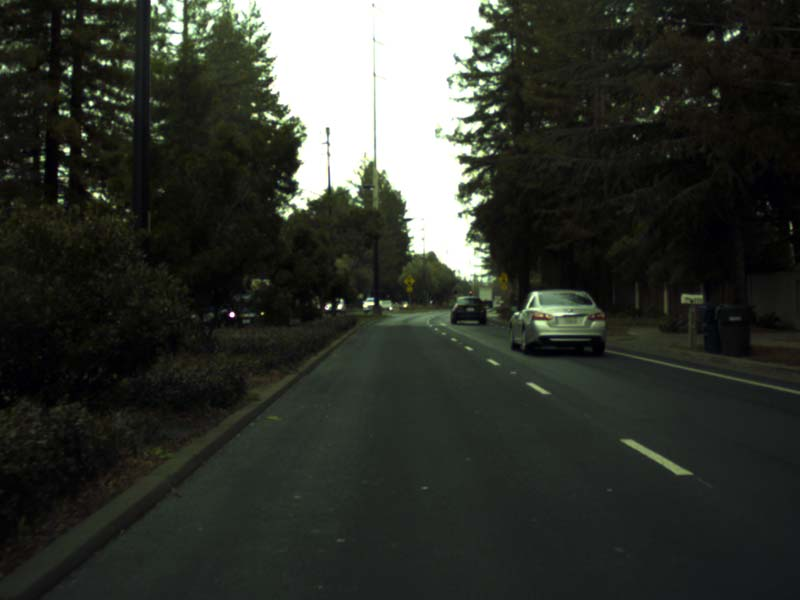Red: (468, 289, 471, 298), (454, 291, 456, 300)
